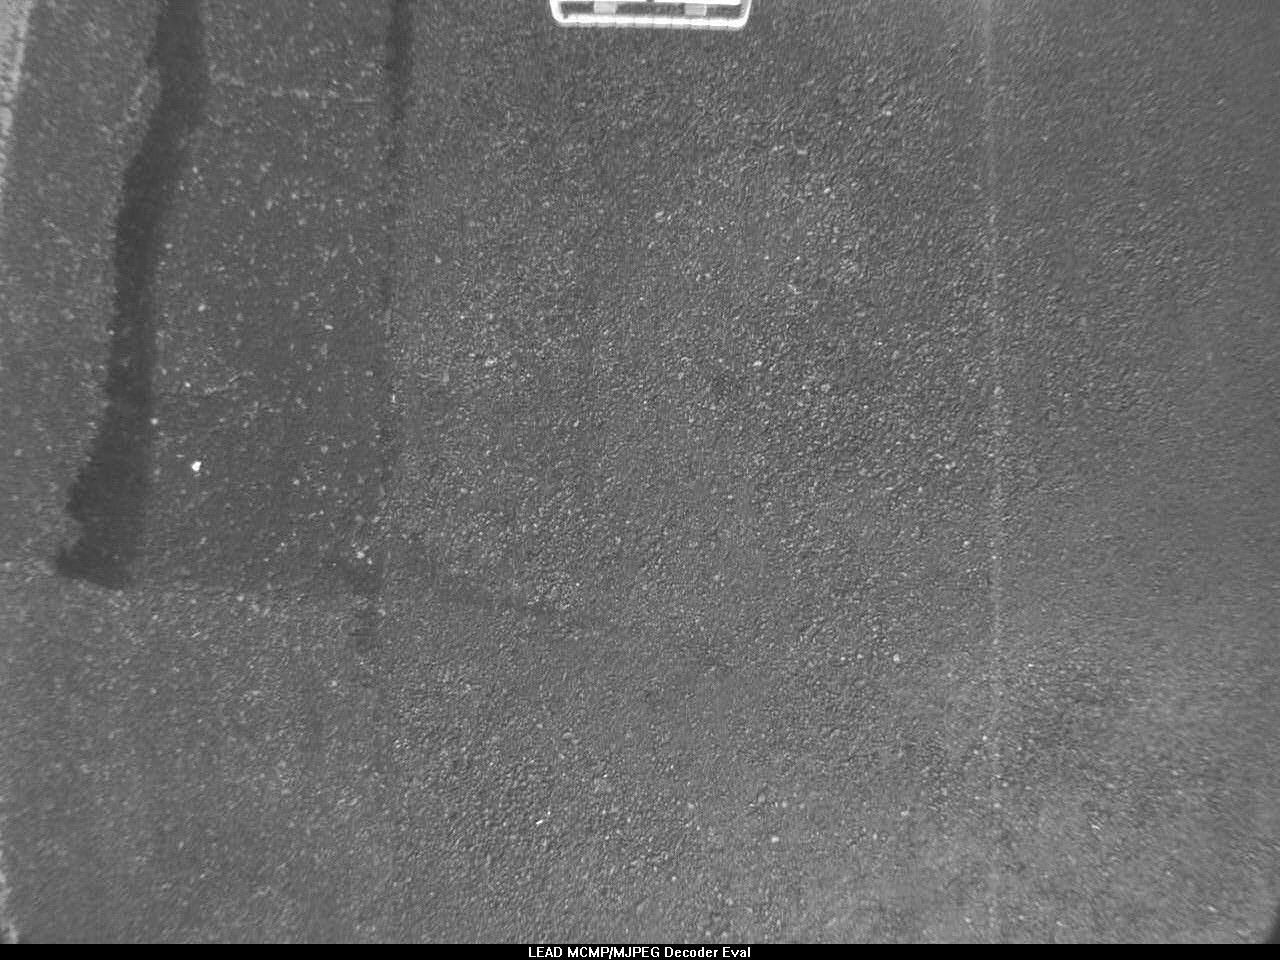sealed: (38, 3, 235, 585)
